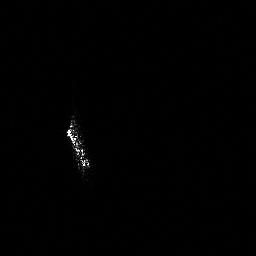ship: (63, 115, 94, 177)
